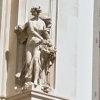Statue: (23, 5, 55, 85)
